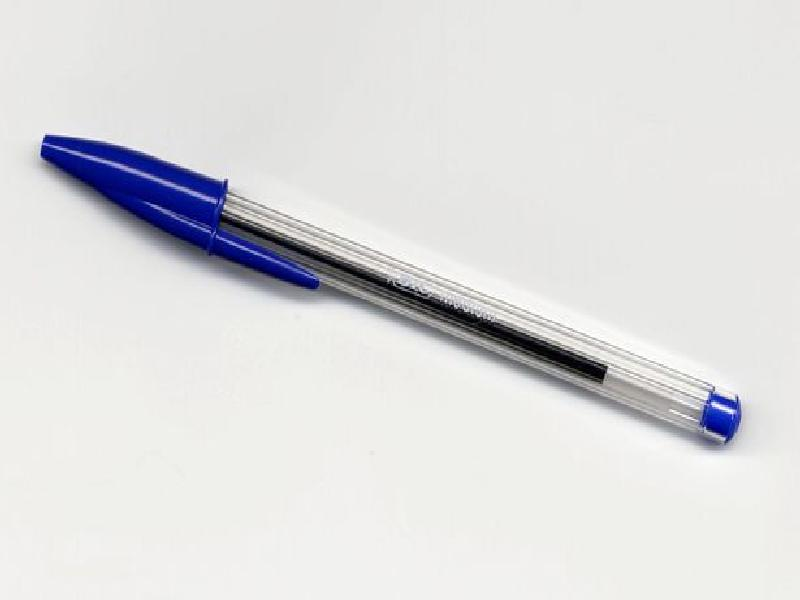pen: (35, 121, 749, 466)
